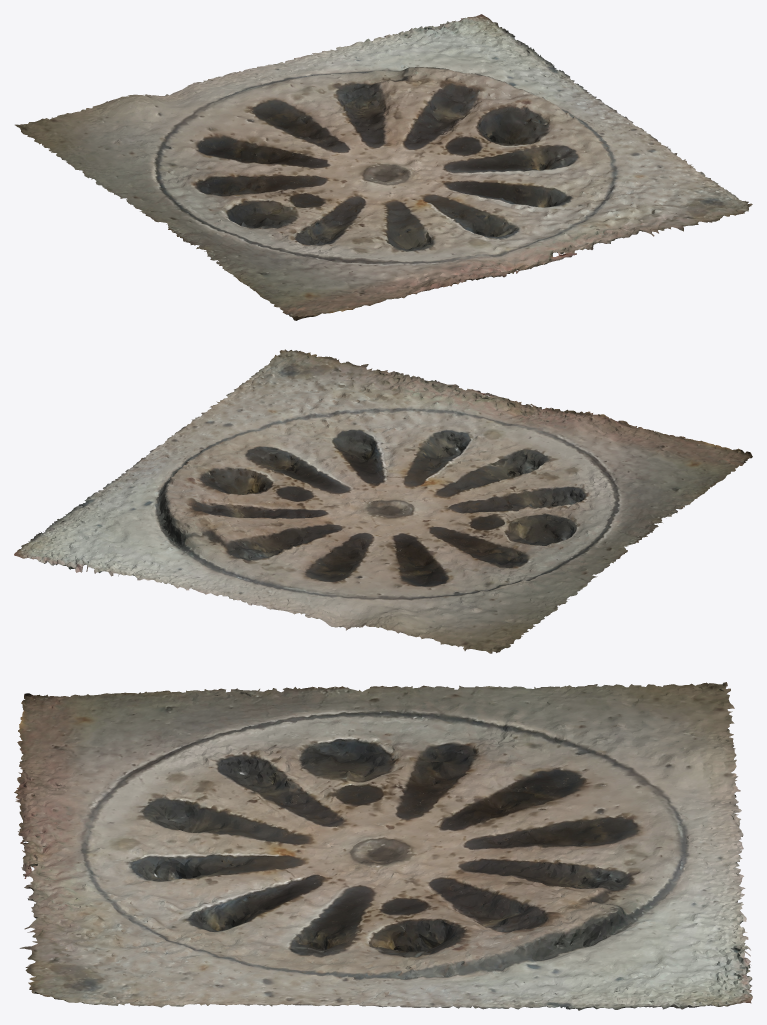
Rendered from lubang.fbx.
The picture shows the model from 3 angles, top to bottom: view 1: azimuth 30°, elevation 25°; view 2: azimuth 150°, elevation 25°; view 3: azimuth 270°, elevation 25°; orthographic projection. The views are drawn at different scales.
Parts seen in each view (by area): view 1: lubang wc; view 2: lubang wc; view 3: lubang wc.
Boxes of the visible parts, left/top/right/bottom form: lubang wc: left=15, top=14, right=752, bottom=320; lubang wc: left=14, top=349, right=752, bottom=653; lubang wc: left=14, top=682, right=752, bottom=1010.
Size of the model in its own units: 453 by 40.34 by 458.
1 material, 1 textured.
